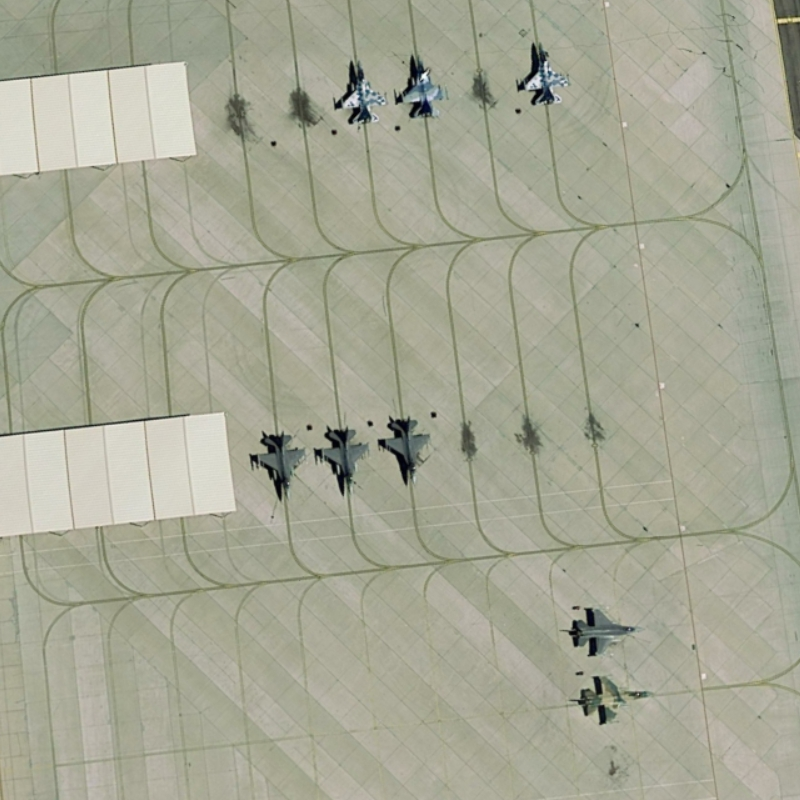A5: (575, 669, 664, 732), (376, 404, 439, 490), (248, 422, 310, 507), (388, 45, 451, 127), (311, 421, 376, 498), (565, 601, 647, 661), (515, 38, 577, 108), (330, 54, 388, 128)
